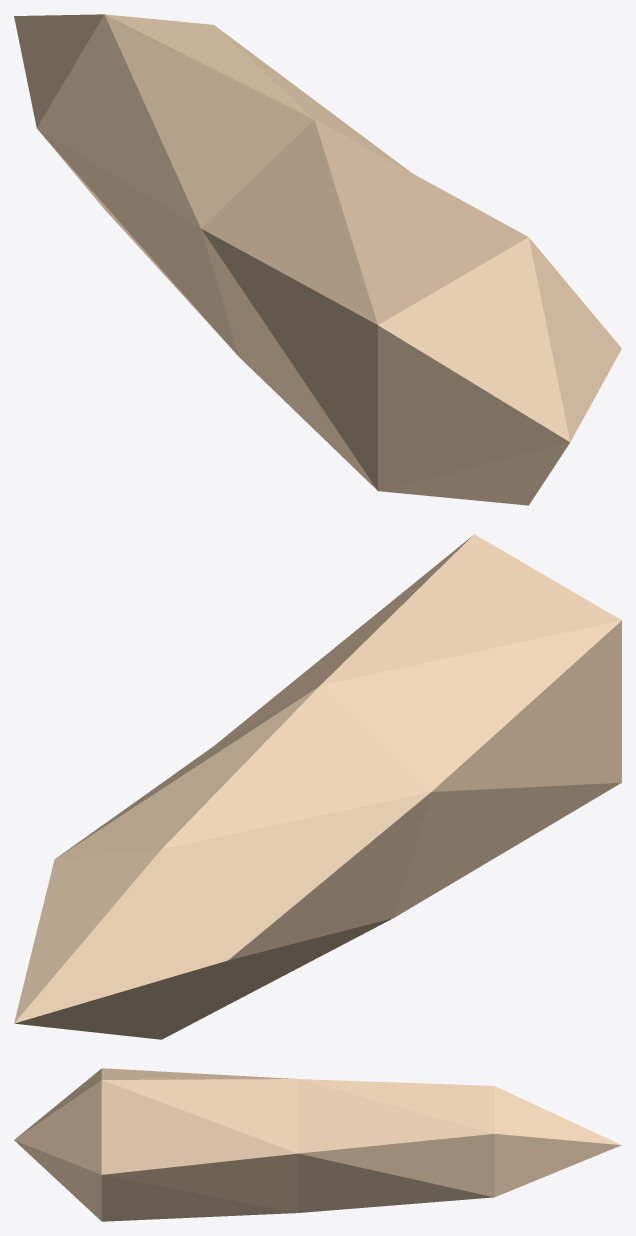
The model's file is plasmodium_sporozoite.fbx.
The picture shows the model from 3 angles, top to bottom: view 1: azimuth 30°, elevation 25°; view 2: azimuth 150°, elevation 25°; view 3: azimuth 270°, elevation 25°; orthographic projection. The views are drawn at different scales.
Visible parts, largest first — view 1: plasmodium_sporozoite; view 2: plasmodium_sporozoite; view 3: plasmodium_sporozoite.
Part boxes in pixels (left/top/right/bottom): plasmodium_sporozoite: left=14, top=14, right=621, bottom=505; plasmodium_sporozoite: left=14, top=534, right=621, bottom=1039; plasmodium_sporozoite: left=14, top=1068, right=621, bottom=1221.
Bounding box in the file's own units: 0.1982 × 0.2084 × 0.8101.
